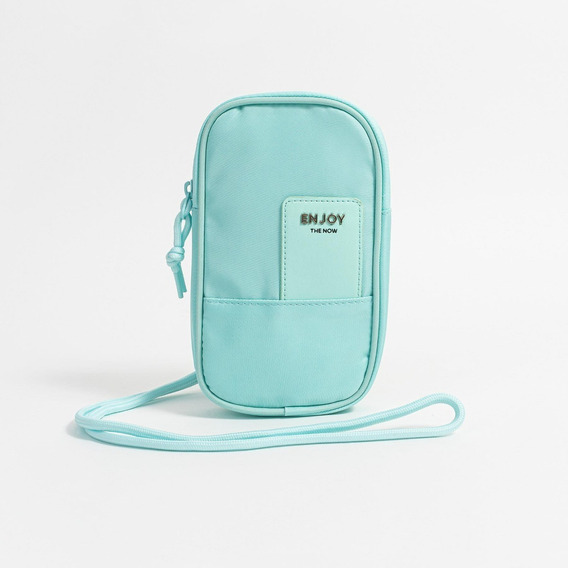cartera: (169, 92, 392, 418)
